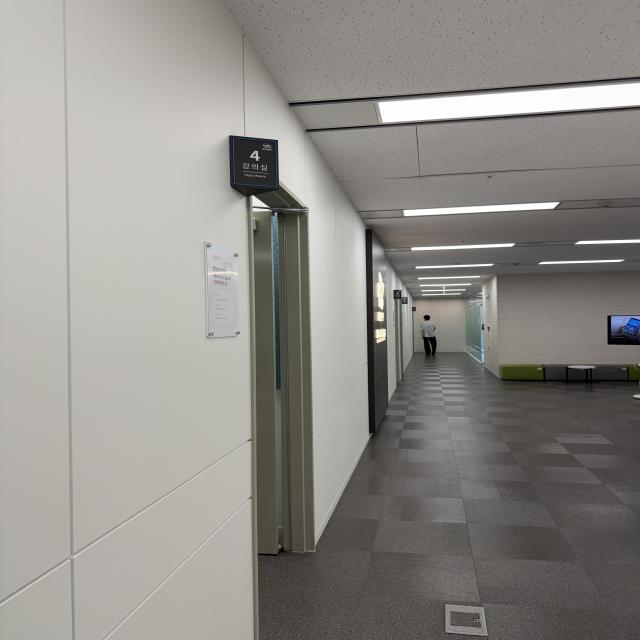sign: (231, 136, 277, 186)
